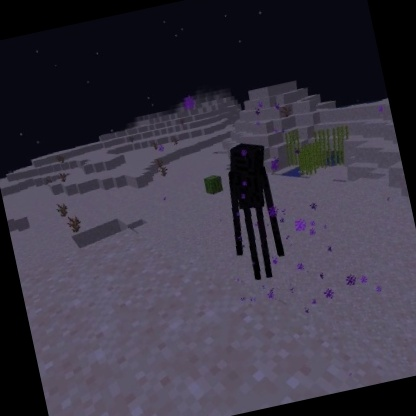enderman: (210, 135, 295, 287)
